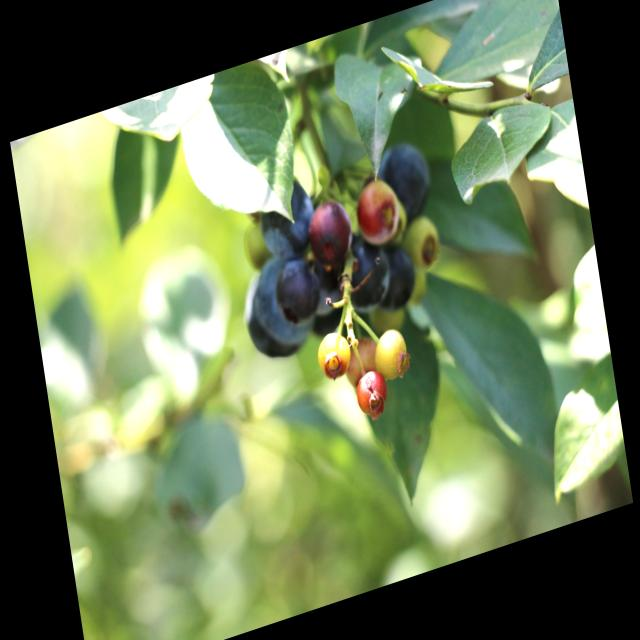blueberry: (236, 259, 310, 370), (370, 130, 438, 226), (256, 178, 316, 262), (339, 233, 393, 314), (372, 239, 419, 312), (275, 257, 322, 325)
blueberry-halfripe: (306, 191, 359, 267), (354, 172, 402, 250), (352, 363, 389, 416)
blueberry-unripe: (405, 211, 443, 274), (372, 323, 411, 381), (315, 326, 353, 384)
